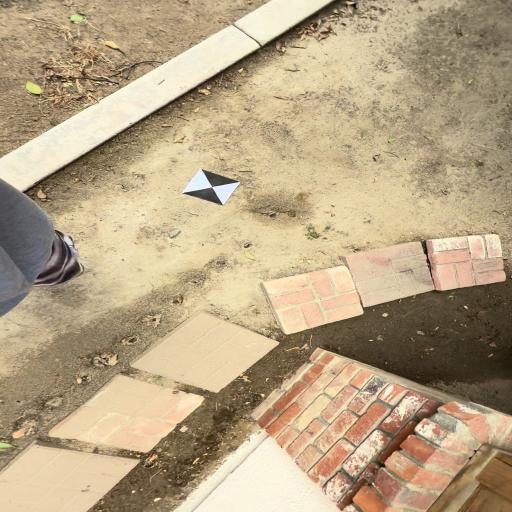target: (182, 169, 241, 205)
